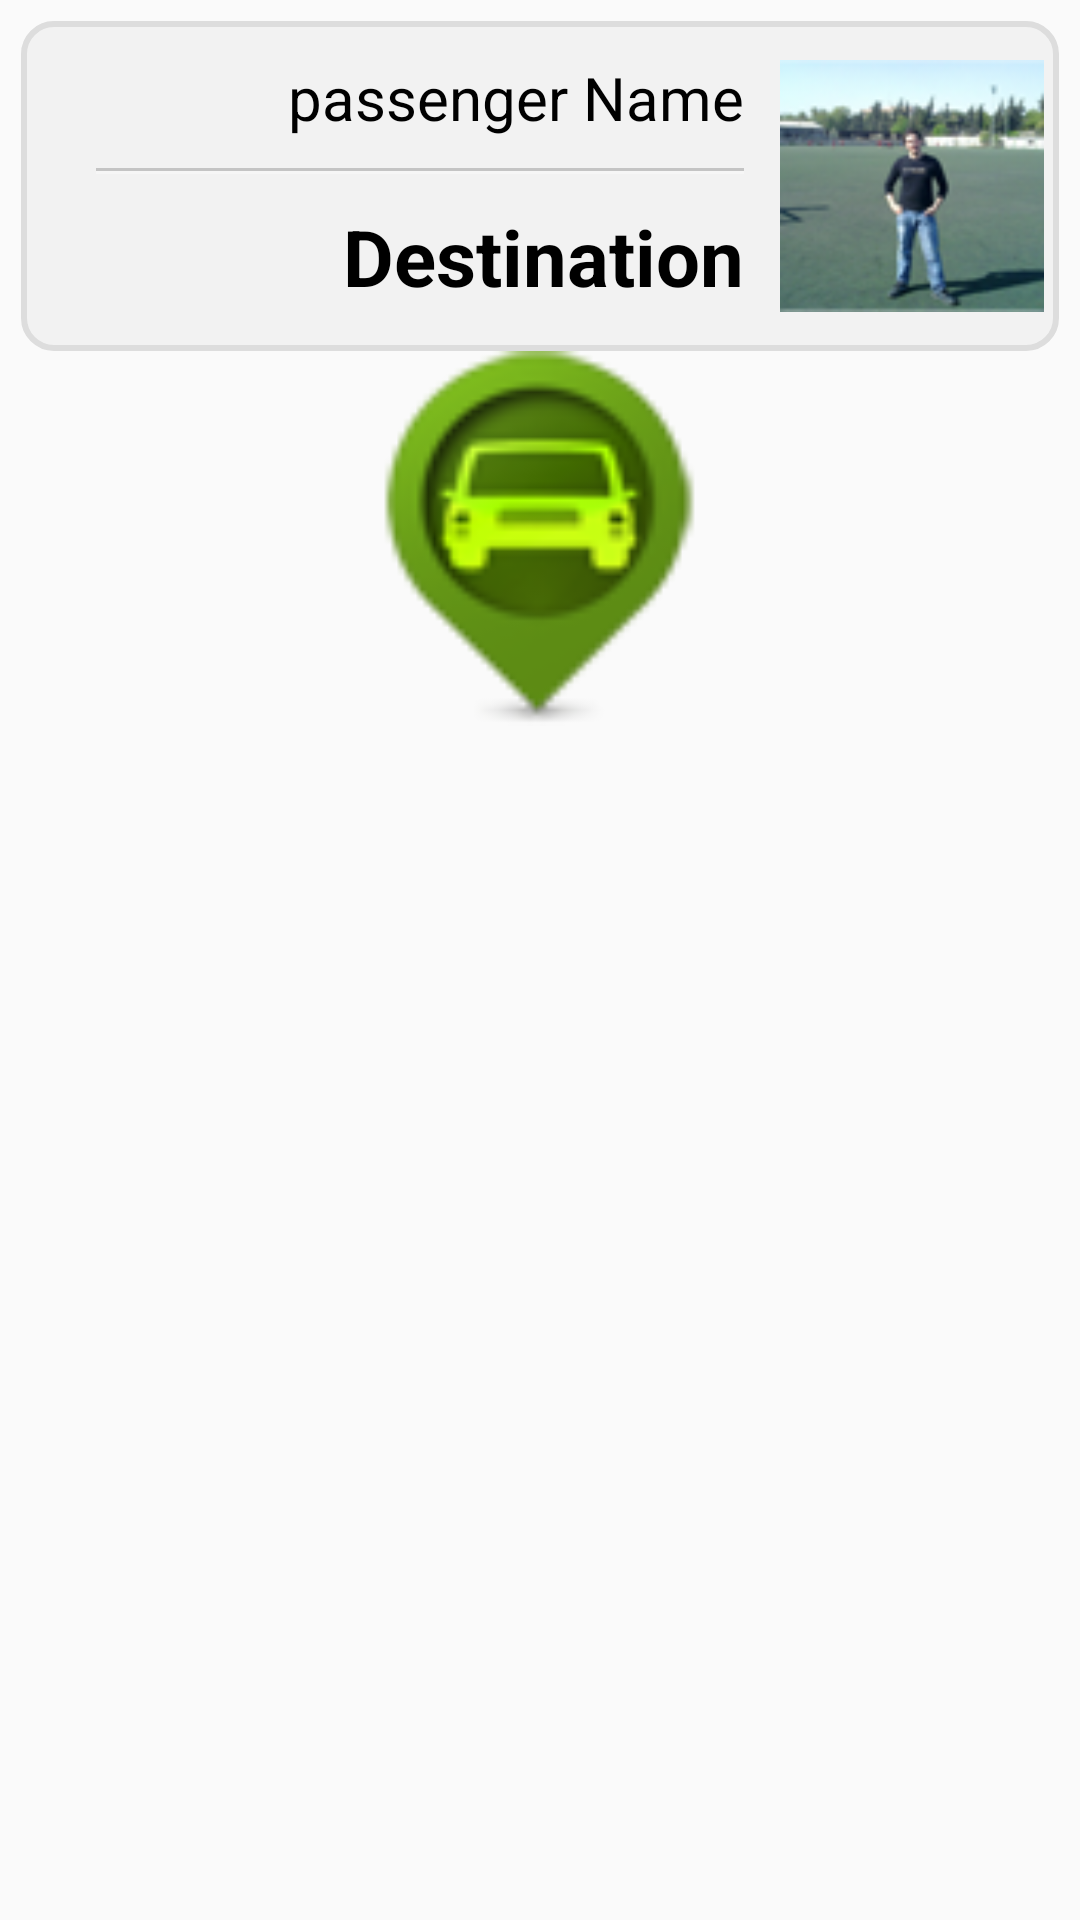

Icons on this 1080*1920 Android screen, each with its box as (x1, y1, x2, y2):
per: (780, 60, 1044, 312)
